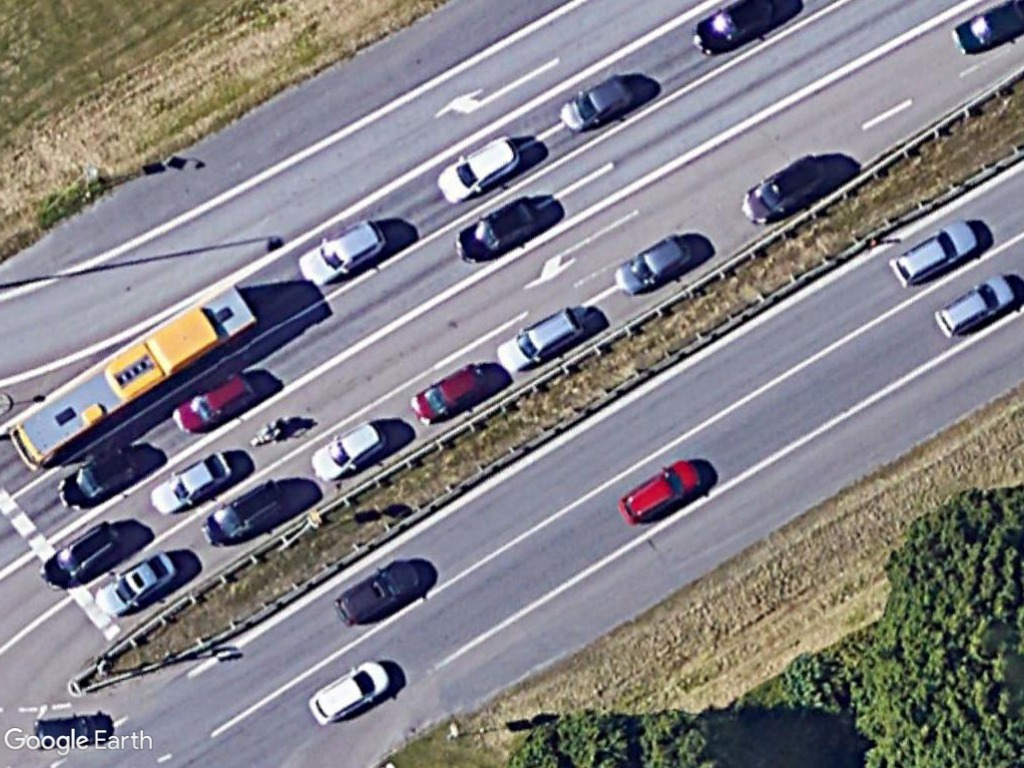bus: (4, 280, 268, 474)
car: (738, 147, 831, 236), (294, 211, 390, 296), (330, 549, 425, 631), (449, 191, 545, 272), (432, 128, 527, 209), (492, 300, 588, 379), (37, 513, 126, 596), (886, 215, 982, 291), (200, 473, 292, 551), (306, 652, 398, 729), (94, 544, 182, 623), (616, 453, 704, 529), (304, 411, 390, 486), (172, 366, 260, 438), (59, 441, 147, 512), (408, 359, 491, 431), (614, 228, 697, 300), (933, 271, 1018, 339), (556, 68, 637, 135)
other: (146, 445, 237, 517)
